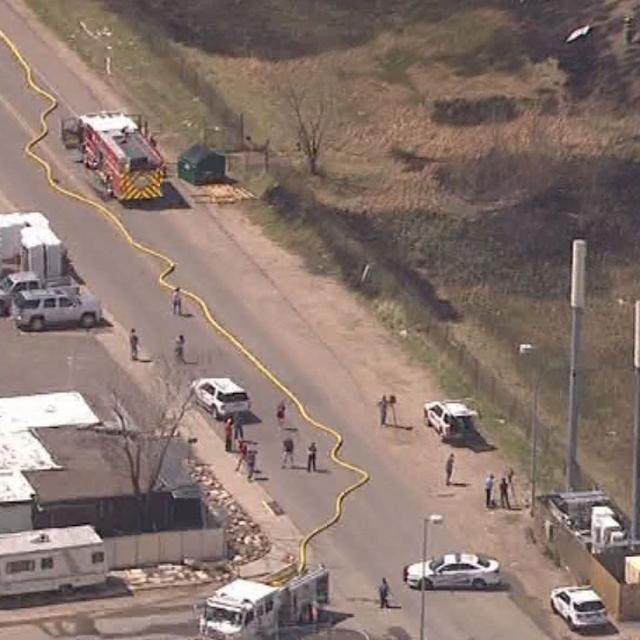traffic_incident: (46, 95, 286, 221)
